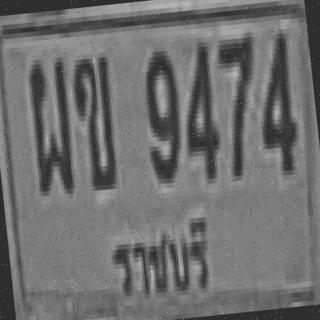A02: (68, 52, 117, 187)
A28: (24, 52, 75, 192)
N04: (250, 29, 298, 173), (175, 37, 220, 180)
N07: (214, 30, 264, 174)
N09: (138, 46, 183, 180)
P52: (103, 206, 218, 312)
